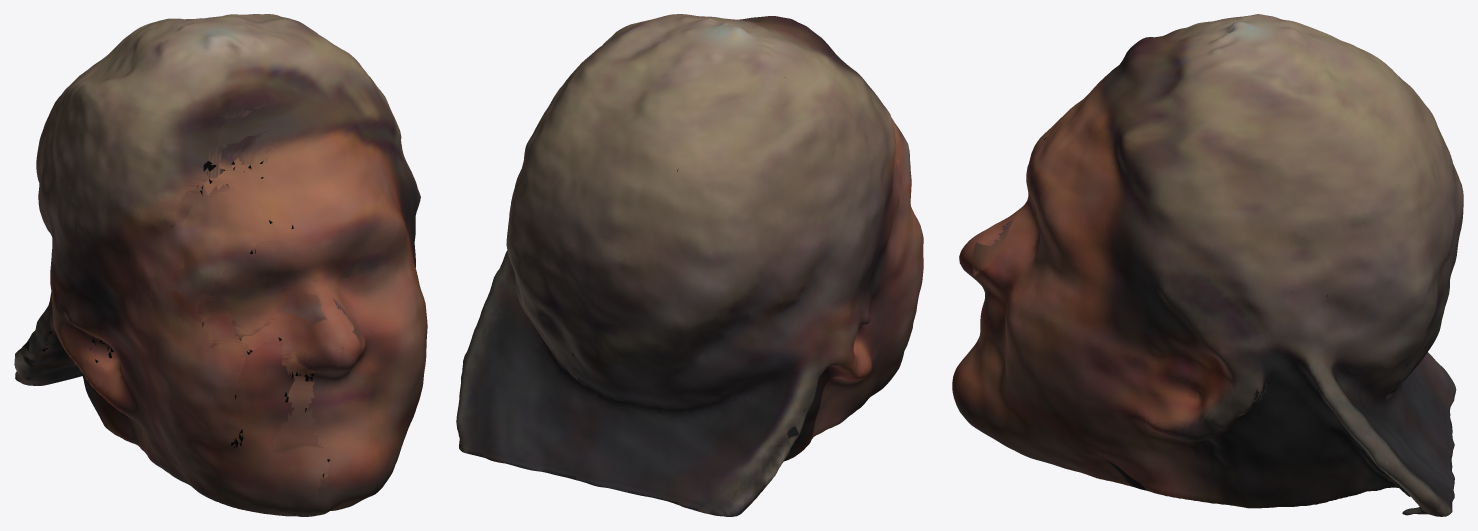
The model's file is Playermodell_0024.fbx.
3 views of the same model, side by side, from view 1: azimuth 30°, elevation 25°; view 2: azimuth 150°, elevation 25°; view 3: azimuth 270°, elevation 25° (orthographic). The views are drawn at different scales.
Visible parts, largest first — view 1: headonlylightjoko; view 2: headonlylightjoko; view 3: headonlylightjoko.
Boxes of the visible parts, bbox=[...] form: headonlylightjoko: bbox=[14, 14, 427, 516]; headonlylightjoko: bbox=[456, 14, 923, 516]; headonlylightjoko: bbox=[952, 14, 1463, 516].
Size of the model in its own units: 303 by 332 by 380.
1 material, 1 textured.
